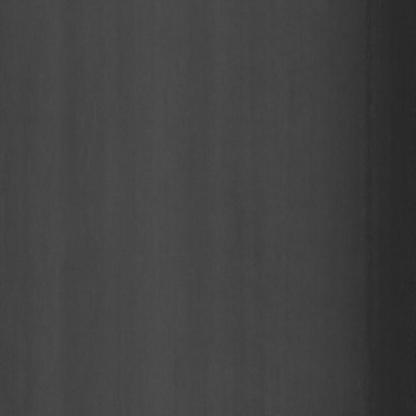silk_spot: (242, 213, 297, 302)
